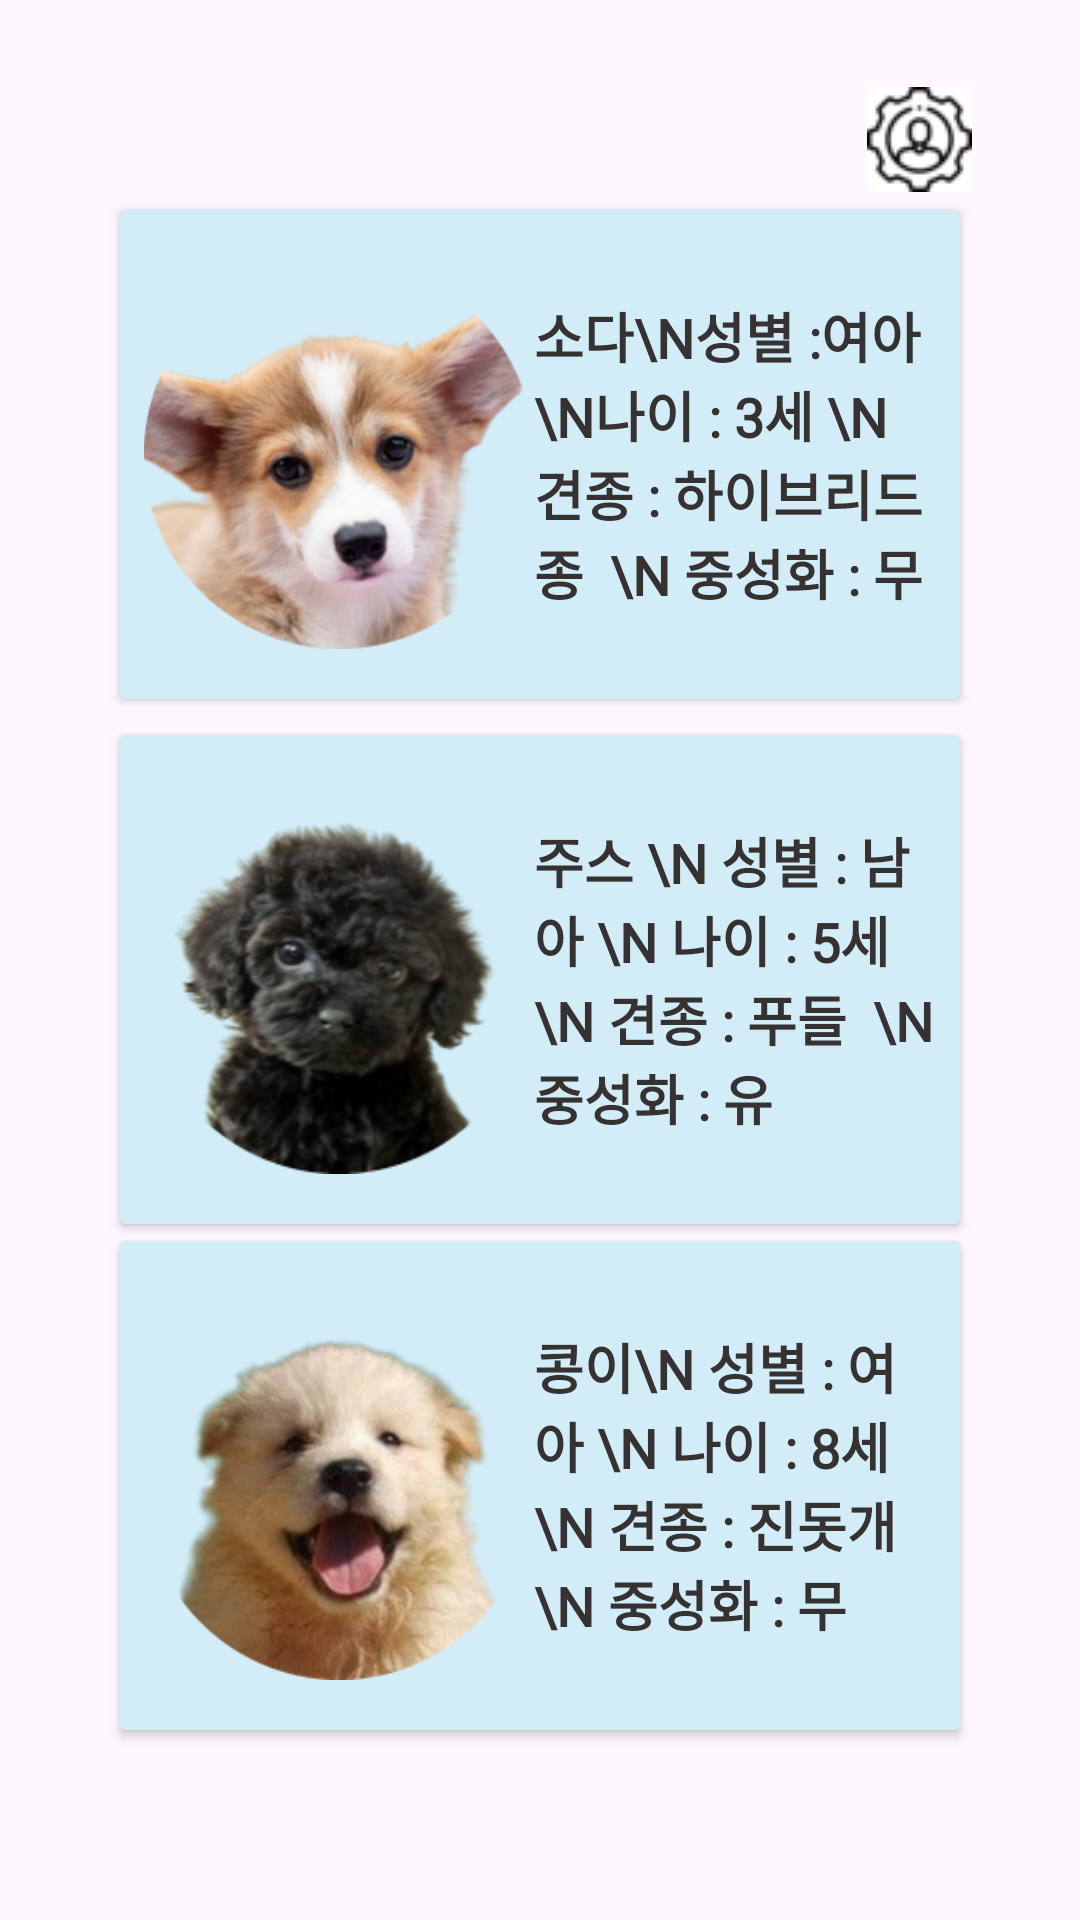

Named icons in this screenshot (1080*1920) and their centers, (x=x, y=y):
change: (x=919, y=139)
